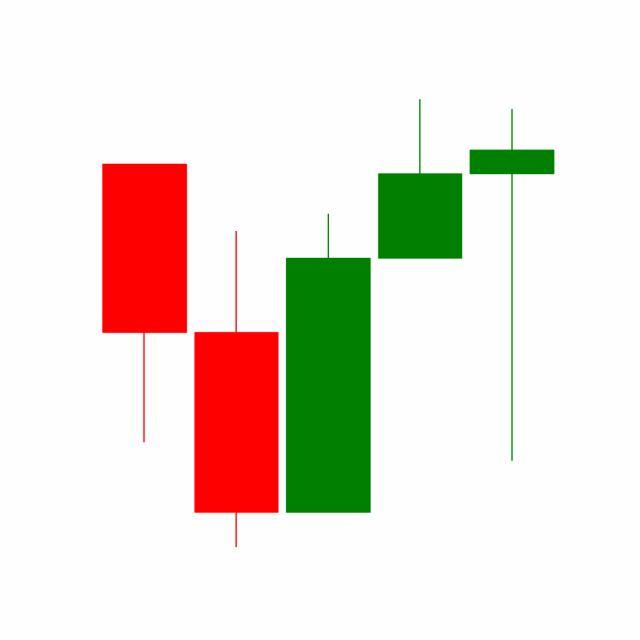Spinning Top: (466, 106, 559, 467)
